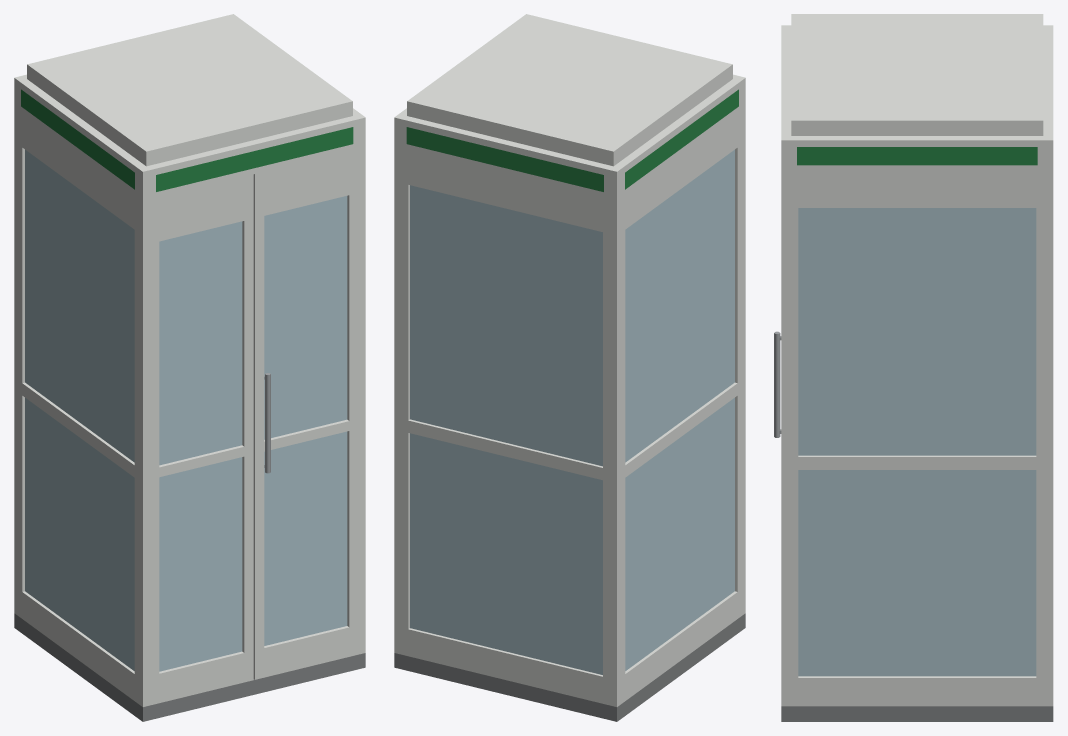
The model's file is phone_booth.glb.
3 renders of one model, left to right at view 1: azimuth 30°, elevation 25°; view 2: azimuth 150°, elevation 25°; view 3: azimuth 270°, elevation 25°, orthographic. The views are drawn at different scales.
Visible parts, largest first — view 1: phone_booth; view 2: phone_booth; view 3: phone_booth.
Boxes of the visible parts, bbox=[...] form: phone_booth: bbox=[14, 14, 365, 721]; phone_booth: bbox=[394, 14, 745, 721]; phone_booth: bbox=[774, 14, 1053, 721].
Bounding box in the file's own units: 0.954 × 2.3 × 0.977.
